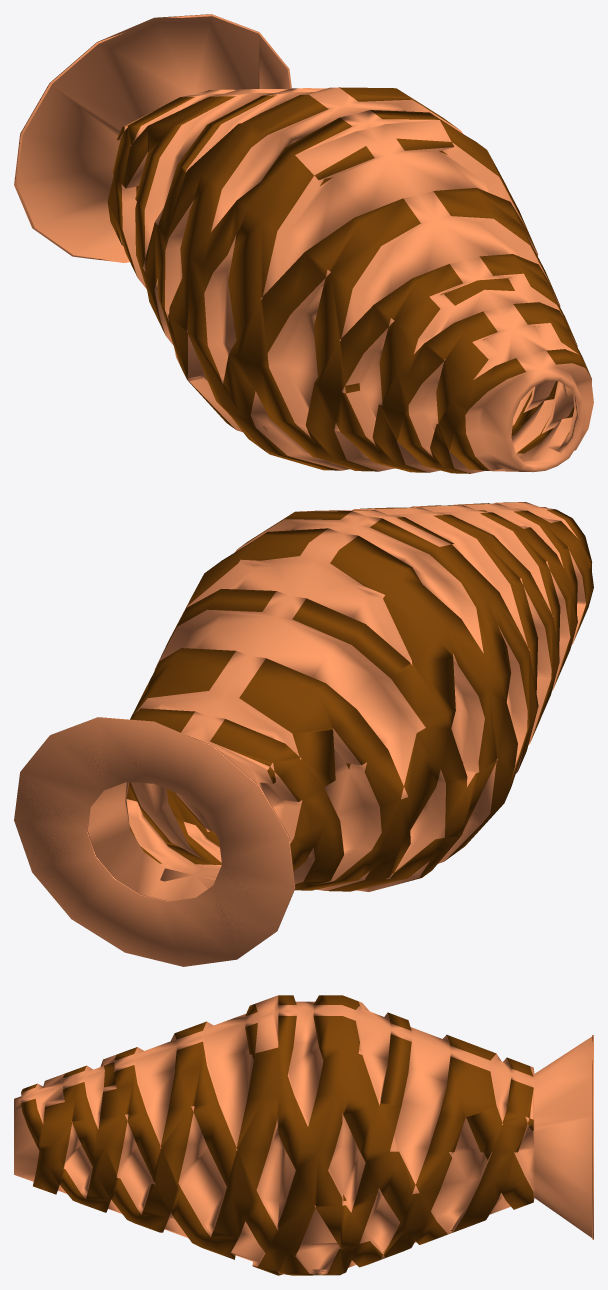
Rendered from bazooka rocket.fbx.
3 views of the same model, one above another, from view 1: azimuth 30°, elevation 25°; view 2: azimuth 150°, elevation 25°; view 3: azimuth 270°, elevation 25° (orthographic). The views are drawn at different scales.
Visible parts, largest first — view 1: Cylinder.001; view 2: Cylinder.001; view 3: Cylinder.001.
Boxes of the visible parts, box(x1,y1,x2,y2) form: Cylinder.001: box(14, 14, 593, 473); Cylinder.001: box(14, 502, 593, 966); Cylinder.001: box(14, 995, 593, 1275).
Bounding box in the file's own units: 0.0206 × 0.0214 × 0.045.
